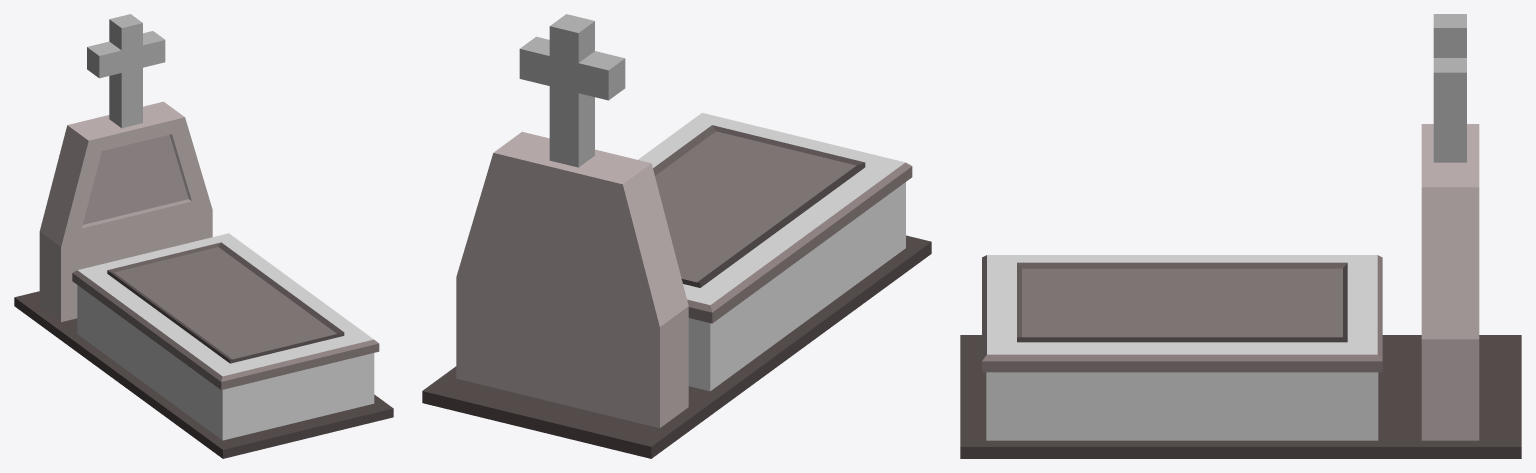
File: HWN20_Grave_32.glb
3 views of the same model, side by side, from view 1: azimuth 30°, elevation 25°; view 2: azimuth 150°, elevation 25°; view 3: azimuth 270°, elevation 25° (orthographic). The views are drawn at different scales.
Parts seen in each view (by area): view 1: HWN20_Grave_32; view 2: HWN20_Grave_32; view 3: HWN20_Grave_32.
Boxes of the visible parts, x1=… form: HWN20_Grave_32: x1=14, y1=14, x2=393, y2=458; HWN20_Grave_32: x1=422, y1=14, x2=931, y2=458; HWN20_Grave_32: x1=960, y1=14, x2=1521, y2=458.
Size of what is drawn, in the model's own units: 0.9895 by 1.57 by 2.1.
Materials: 1 (1 with a texture image).
